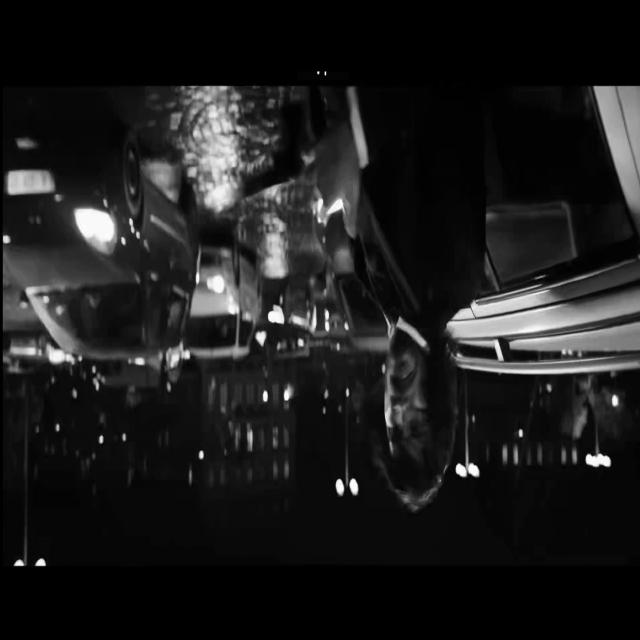weapons: (228, 82, 311, 208)
